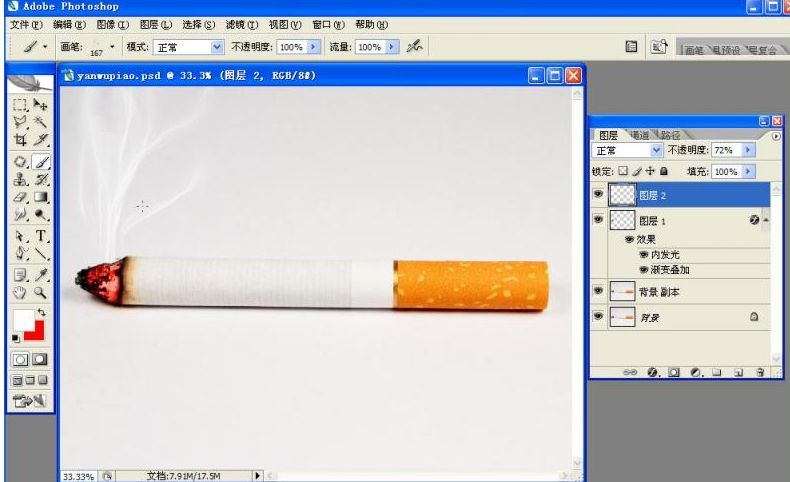yanwu: (76, 88, 202, 234)
